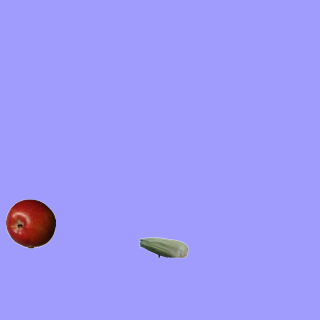Apple Braeburn: (5, 198, 55, 248)
Corn Husk: (138, 222, 188, 272)
